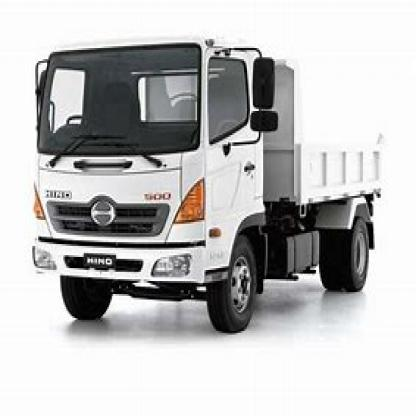dump_truck: (37, 35, 376, 322)
